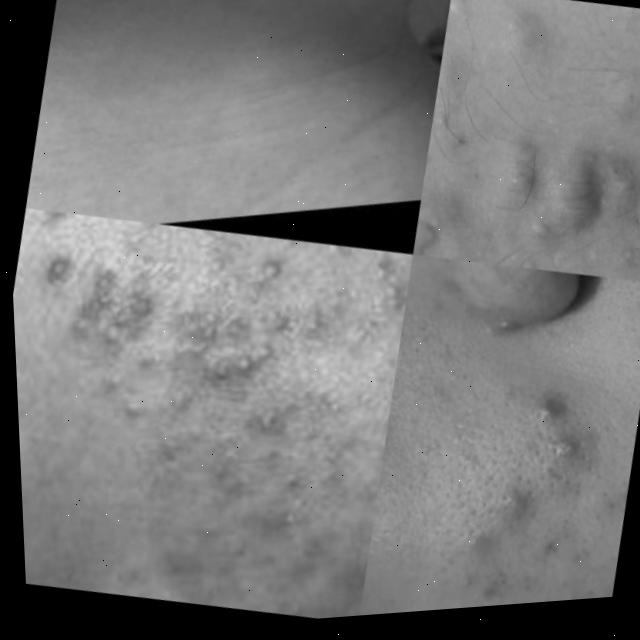Acne: (63, 232, 362, 563), (387, 0, 640, 277), (121, 0, 334, 159), (475, 370, 610, 584)
